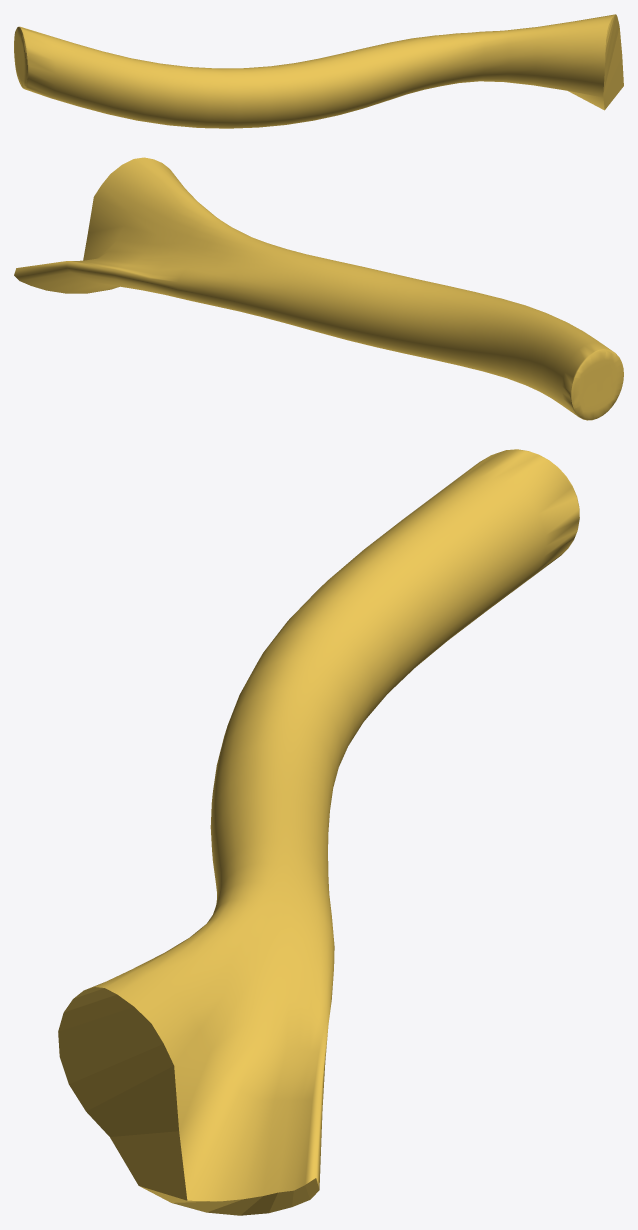
The model's file is Cochlear_nerve_left.glb.
3 views of the same model, one above another, from view 1: azimuth 30°, elevation 25°; view 2: azimuth 150°, elevation 25°; view 3: azimuth 270°, elevation 25° (orthographic). The views are drawn at different scales.
Visible parts, largest first — view 1: Cochlear_nerve.l_Anatomy_of_the_Inner_Ear_Sketchfab_upload_0; view 2: Cochlear_nerve.l_Anatomy_of_the_Inner_Ear_Sketchfab_upload_0; view 3: Cochlear_nerve.l_Anatomy_of_the_Inner_Ear_Sketchfab_upload_0.
Part boxes in pixels (<box>): Cochlear_nerve.l_Anatomy_of_the_Inner_Ear_Sketchfab_upload_0: <box>14,14,623,128</box>; Cochlear_nerve.l_Anatomy_of_the_Inner_Ear_Sketchfab_upload_0: <box>14,157,623,420</box>; Cochlear_nerve.l_Anatomy_of_the_Inner_Ear_Sketchfab_upload_0: <box>58,449,579,1215</box>.
Size of the model in its own units: 0.0217 by 0.00505 by 0.00891.
